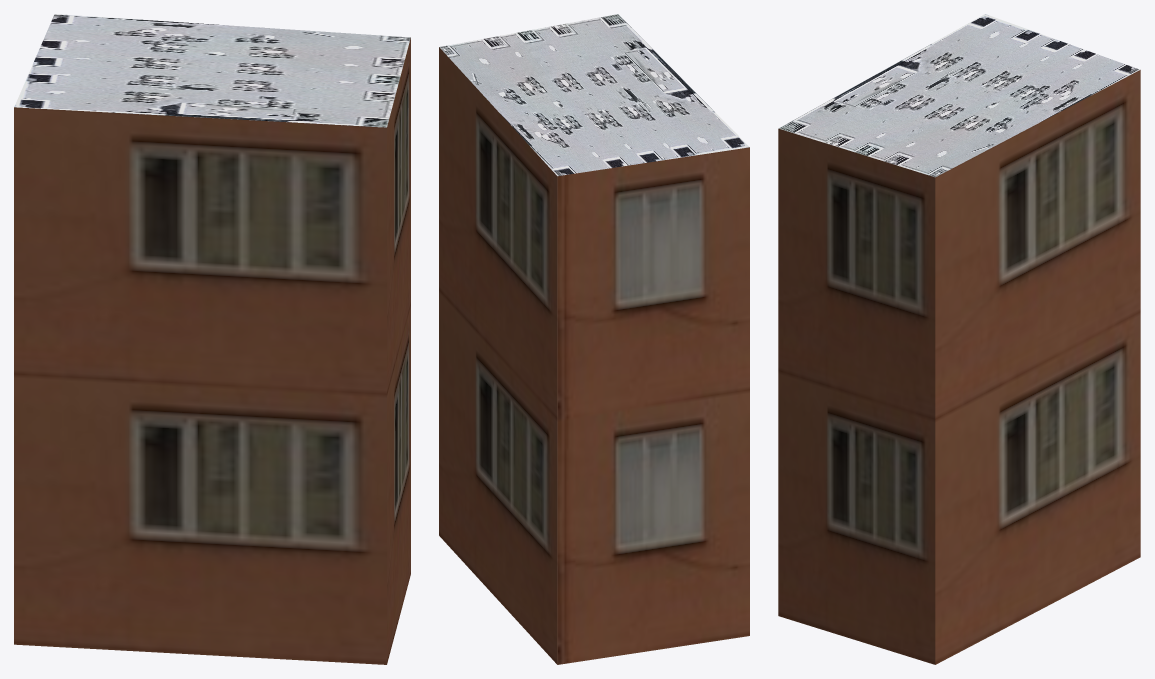
File: ResTex__2904.fbx
3 views of the same model, side by side, from view 1: azimuth 30°, elevation 25°; view 2: azimuth 150°, elevation 25°; view 3: azimuth 270°, elevation 25° (orthographic). The views are drawn at different scales.
Parts seen in each view (by area): view 1: CityEngineMaterial_20_m, CityEngineMaterial_8_m; view 2: CityEngineMaterial_20_m, CityEngineMaterial_8_m; view 3: CityEngineMaterial_20_m, CityEngineMaterial_8_m.
Part boxes in pixels (x1,y1,x2,y2): CityEngineMaterial_20_m: (14,37,410,664); CityEngineMaterial_8_m: (14,14,410,127); CityEngineMaterial_20_m: (439,47,749,664); CityEngineMaterial_8_m: (439,14,749,176); CityEngineMaterial_20_m: (778,70,1140,664); CityEngineMaterial_8_m: (779,14,1139,177).
Bounding box in the file's own units: 4.31 × 6 × 4.04.
Materials: 2 (2 with a texture image).
